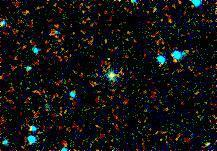star: (100, 59, 130, 89)
